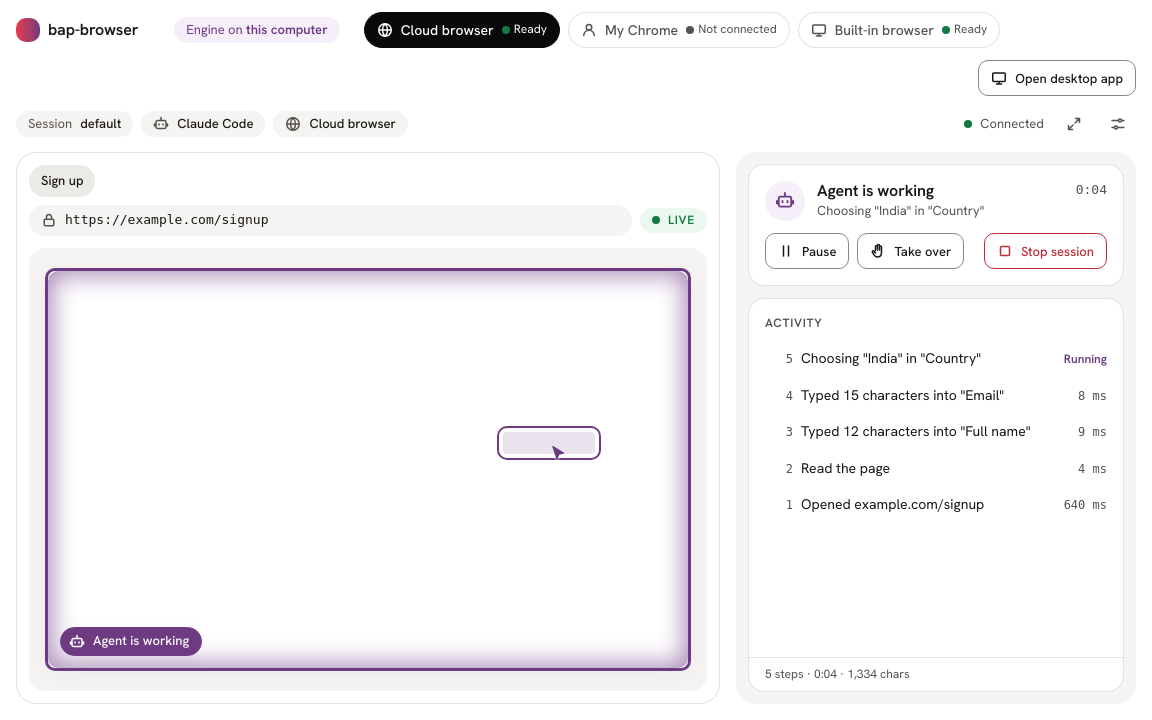
Test: the button that opens the desktop app (spec 9.16) › says so when the app could not be opened, and can be pressed again
Click the button "Open desktop app" at [1057, 78], box [978,60,1136,96]
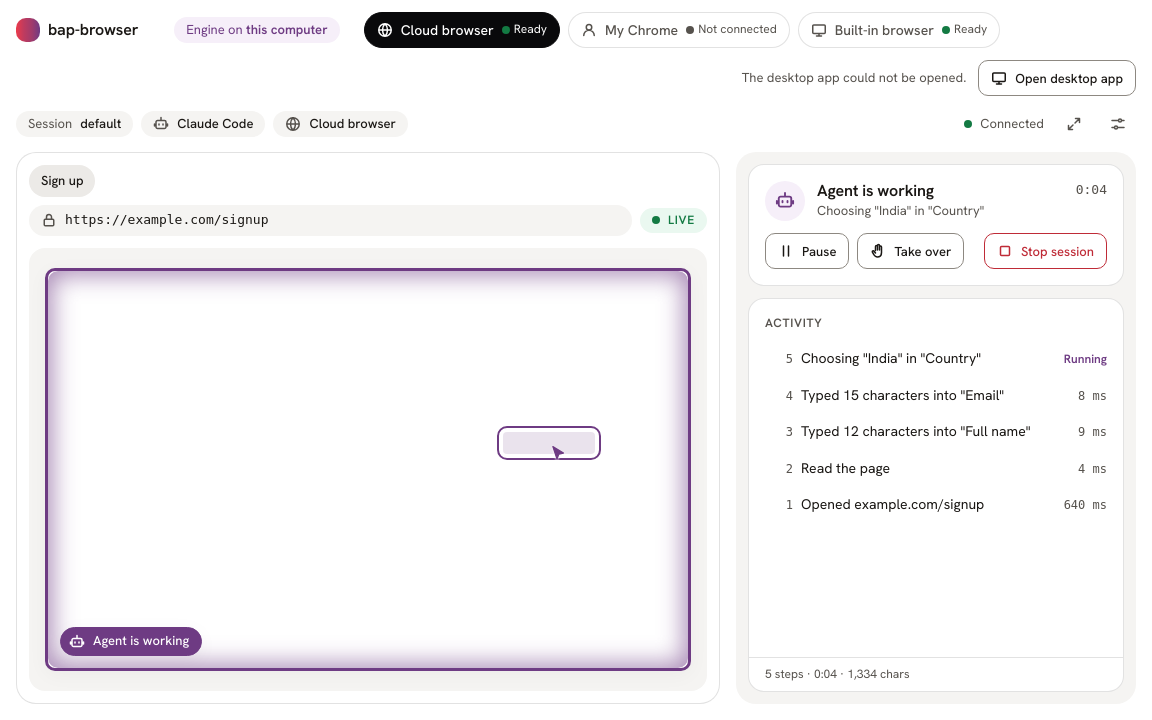
expect the text "The desktop app could not be opened." is shown: met, box [742,69,966,87]
